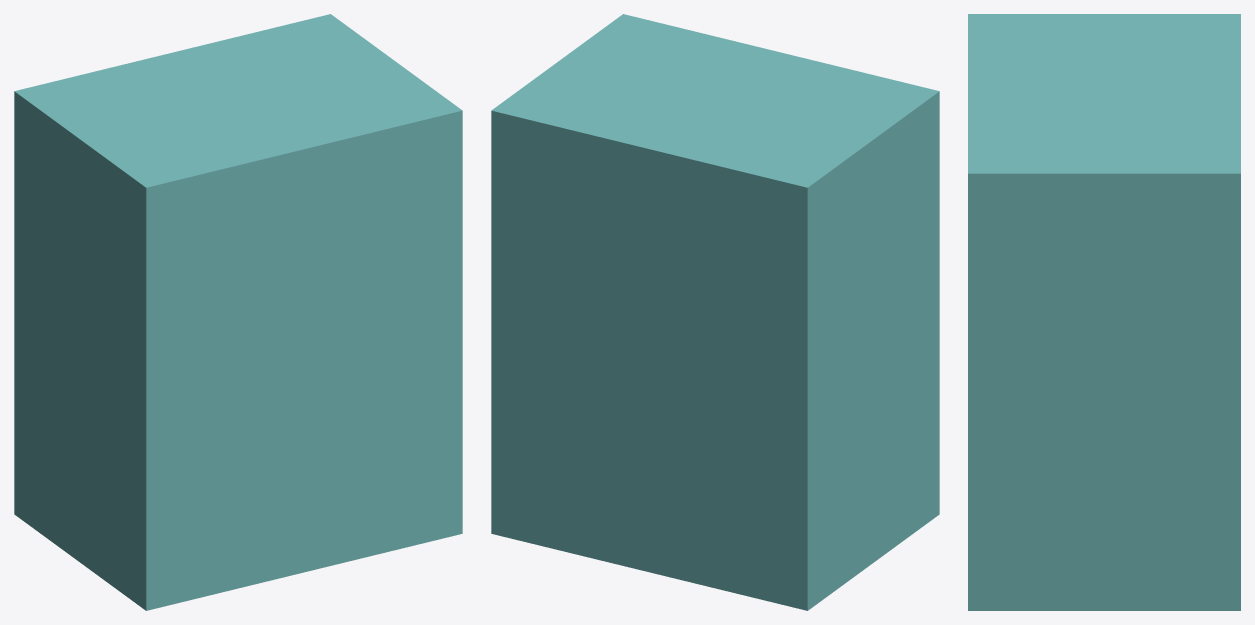
The model's file is induck-backpack-v1.glb.
3 views of the same model, side by side, from view 1: azimuth 30°, elevation 25°; view 2: azimuth 150°, elevation 25°; view 3: azimuth 270°, elevation 25° (orthographic). The views are drawn at different scales.
Parts seen in each view (by area): view 1: qa_back_5, qa_back_1, qa_back_0, qa_back_2, qa_back_3, qa_back_4; view 2: qa_back_5, qa_back_1, qa_back_0, qa_back_2, qa_back_3, qa_back_4; view 3: qa_back_5, qa_back_2, qa_back_3, qa_back_4, qa_back_0, qa_back_1.
Part boxes in pixels (x1,y1,x2,y2): qa_back_5: (14, 14, 462, 258); qa_back_1: (14, 373, 462, 540); qa_back_0: (14, 444, 462, 610); qa_back_2: (14, 303, 462, 469); qa_back_3: (14, 232, 462, 399); qa_back_4: (14, 162, 462, 328); qa_back_5: (491, 14, 939, 258); qa_back_1: (491, 373, 939, 540); qa_back_0: (491, 444, 939, 610); qa_back_2: (491, 303, 939, 469); qa_back_3: (491, 232, 939, 399); qa_back_4: (491, 162, 939, 328); qa_back_5: (968, 14, 1240, 246); qa_back_2: (968, 392, 1240, 465); qa_back_3: (968, 319, 1240, 392); qa_back_4: (968, 246, 1240, 319); qa_back_0: (968, 538, 1240, 610); qa_back_1: (968, 465, 1240, 537).
Bounding box in the file's own units: 0.18 × 0.23 × 0.13.
